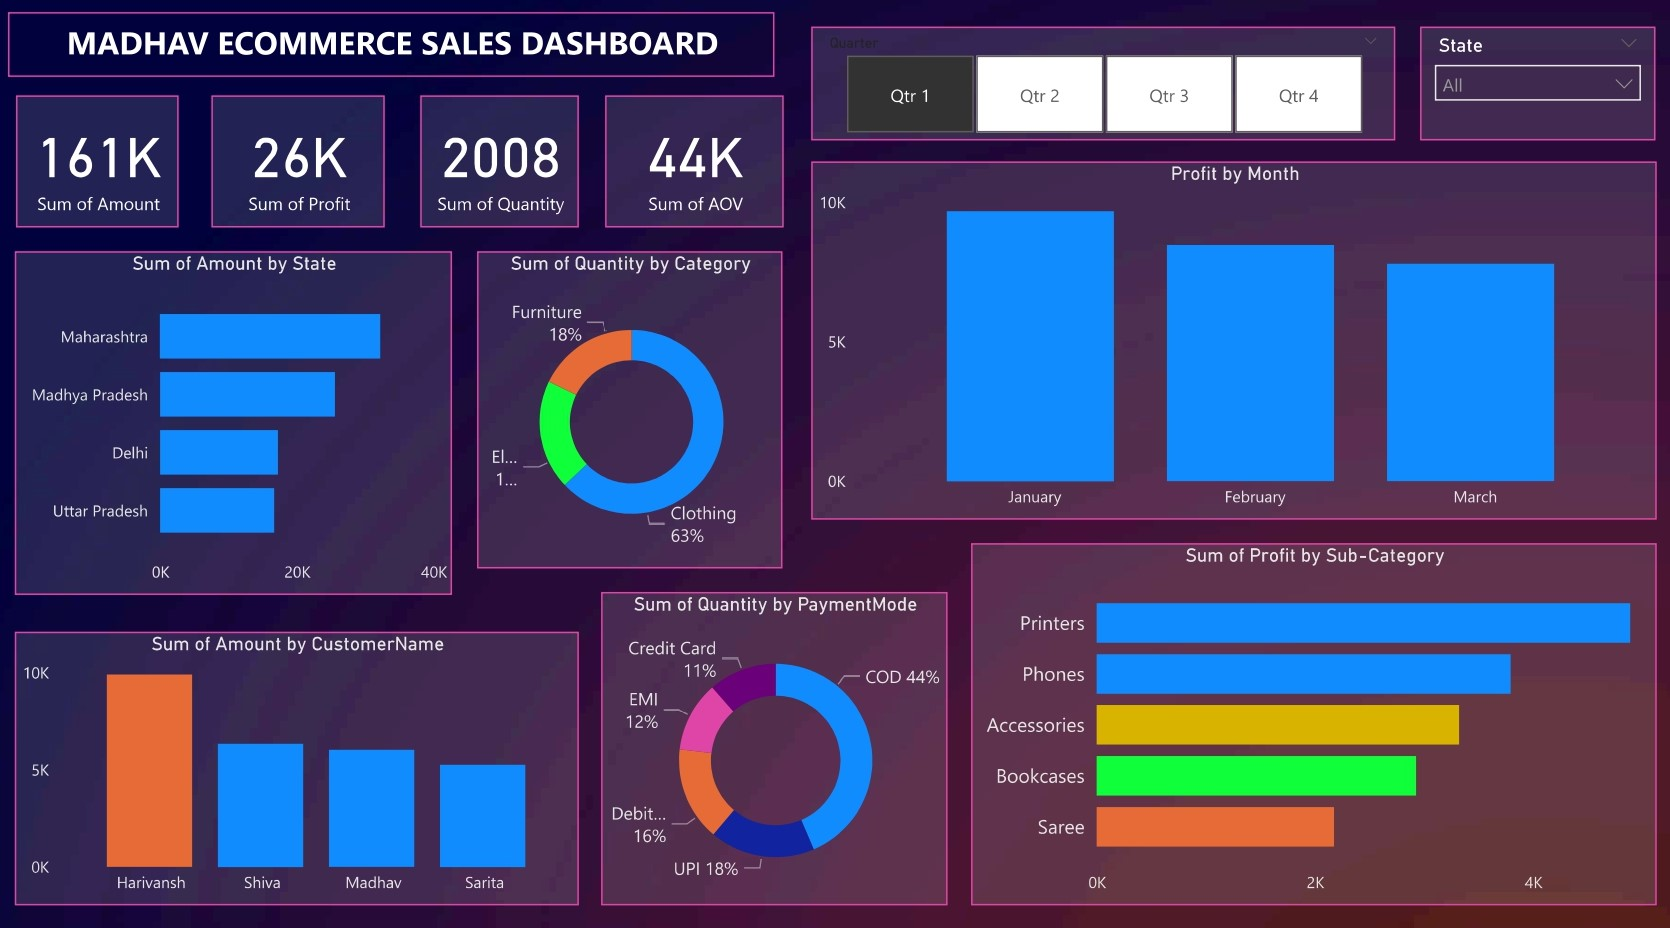

The dashboard page shown, as its layout file describes it:
{"tool":"powerbi","page":{"name":"Page 1","canvas":[1280,720],"ordinal":0},"visuals":[{"type":"textbox","box":[9.9,15.6,579.7,49.6],"z":0},{"type":"columnChart","title":"Profit by Month","fields":{"Category":["Orders.Order Date.Variation.Date Hierarchy.Month"],"Y":["Details.Profit"]},"box":[618.2,129.3,640,270.4],"z":1000},{"type":"barChart","fields":{"Category":["Details.Sub-Category"],"Y":["Details.Profit"]},"box":[739.1,418.3,519.1,273.8],"z":2000},{"type":"donutChart","fields":{"Category":["Details.Category"],"Y":["Details.Quantity"]},"box":[364.5,196.5,231.8,240.2],"z":3000},{"type":"donutChart","fields":{"Y":["Details.Quantity"],"Category":["Details.PaymentMode"]},"box":[458.6,455.2,262,236.9],"z":4000},{"type":"card","fields":{"Values":["Details.Amount"]},"box":[15.6,79.4,123.3,99.2],"z":4001},{"type":"card","fields":{"Values":["Details.Quantity"]},"box":[321.7,79.4,120.5,99.2],"z":4002},{"type":"card","fields":{"Values":["Details.Profit"]},"box":[164.4,79.4,130.4,99.2],"z":4003},{"type":"card","fields":{"Values":["Details.AOV"]},"box":[462,79.4,134.6,99.2],"z":4004},{"type":"barChart","fields":{"Category":["Orders.State"],"Y":["Details.Amount"]},"box":[15.1,196.5,330.9,260.4],"z":4005},{"type":"columnChart","fields":{"Category":["Orders.CustomerName"],"Y":["Details.Amount"]},"box":[15.1,485.5,426.7,206.6],"z":4006},{"type":"slicer","fields":{"Values":["Orders.State"]},"box":[1078.6,26.9,178.6,86.5],"z":4007},{"type":"slicer","fields":{"Values":["Orders.Order Date.Variation.Date Hierarchy.Quarter"]},"box":[618,26.9,442.2,86.5],"z":4008}]}

Visuals, with their boxes in screenshot pixels (x1, y1, x2, y2), scaled from the page's 1280x720 canvas onto the 1670x928 screenshot:
textbox: bbox=[13, 20, 769, 84]
"Profit by Month" columnChart: bbox=[807, 167, 1642, 515]
barChart - Details.Sub-Category x Details.Profit: bbox=[964, 539, 1642, 892]
donutChart - Details.Category x Details.Quantity: bbox=[476, 253, 778, 563]
donutChart - Details.Quantity x Details.PaymentMode: bbox=[598, 587, 940, 892]
card - Details.Amount: bbox=[20, 102, 181, 230]
card - Details.Quantity: bbox=[420, 102, 577, 230]
card - Details.Profit: bbox=[214, 102, 385, 230]
card - Details.AOV: bbox=[603, 102, 778, 230]
barChart - Orders.State x Details.Amount: bbox=[20, 253, 451, 589]
columnChart - Orders.CustomerName x Details.Amount: bbox=[20, 626, 576, 892]
slicer - Orders.State: bbox=[1407, 35, 1640, 146]
slicer - Orders.Order Date.Variation.Date Hierarchy.Quarter: bbox=[806, 35, 1383, 146]
